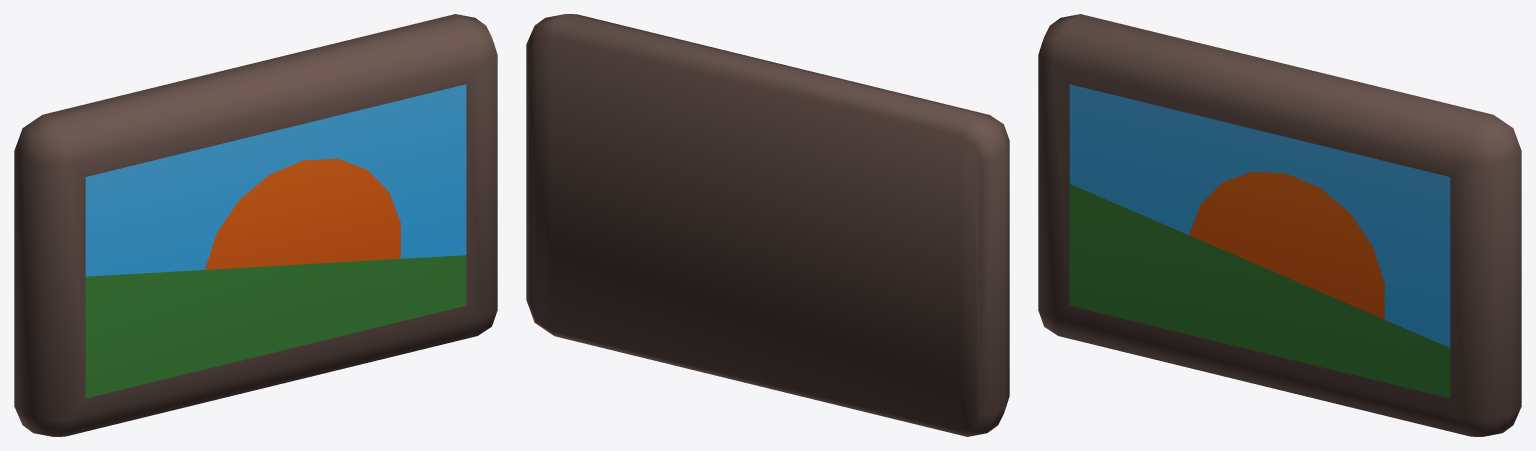
Rendered from Picture_19.glb.
3 views of the same model, side by side, from view 1: azimuth 30°, elevation 25°; view 2: azimuth 150°, elevation 25°; view 3: azimuth 330°, elevation 25° (orthographic).
Visible parts, largest first — view 1: Picture_19; view 2: Picture_19; view 3: Picture_19.
Part boxes in pixels (x1=…): Picture_19: x1=14, y1=14, x2=497, y2=436; Picture_19: x1=526, y1=14, x2=1009, y2=436; Picture_19: x1=1038, y1=14, x2=1521, y2=436.
Bounding box in the file's own units: 0.5 × 0.32 × 0.06.
Materials: 1 (1 with a texture image).
